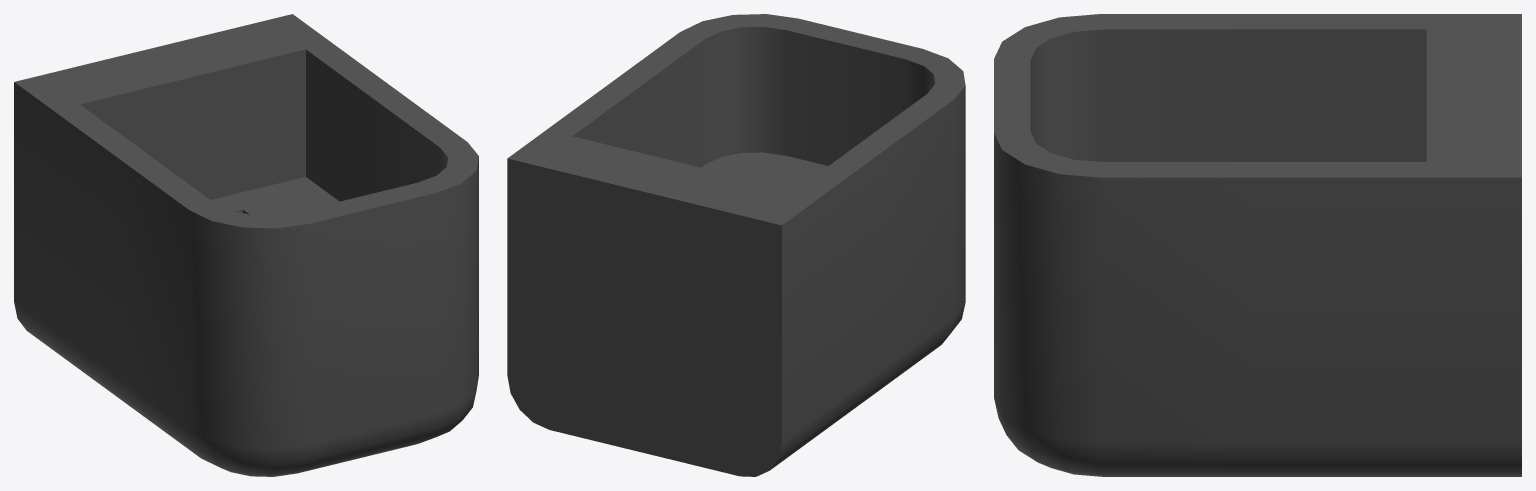
File: Toilet1_C2_01.fbx
The picture shows the model from 3 angles, left to right: view 1: azimuth 30°, elevation 25°; view 2: azimuth 150°, elevation 25°; view 3: azimuth 270°, elevation 25°; orthographic projection. The views are drawn at different scales.
Visible parts, largest first — view 1: Toilet1_C2_01; view 2: Toilet1_C2_01; view 3: Toilet1_C2_01.
Part boxes in pixels (x1,y1,x2,y2): Toilet1_C2_01: (14,14,478,476); Toilet1_C2_01: (507,14,965,476); Toilet1_C2_01: (994,14,1521,476).
Size of the model in its own units: 33 by 30 by 45.
